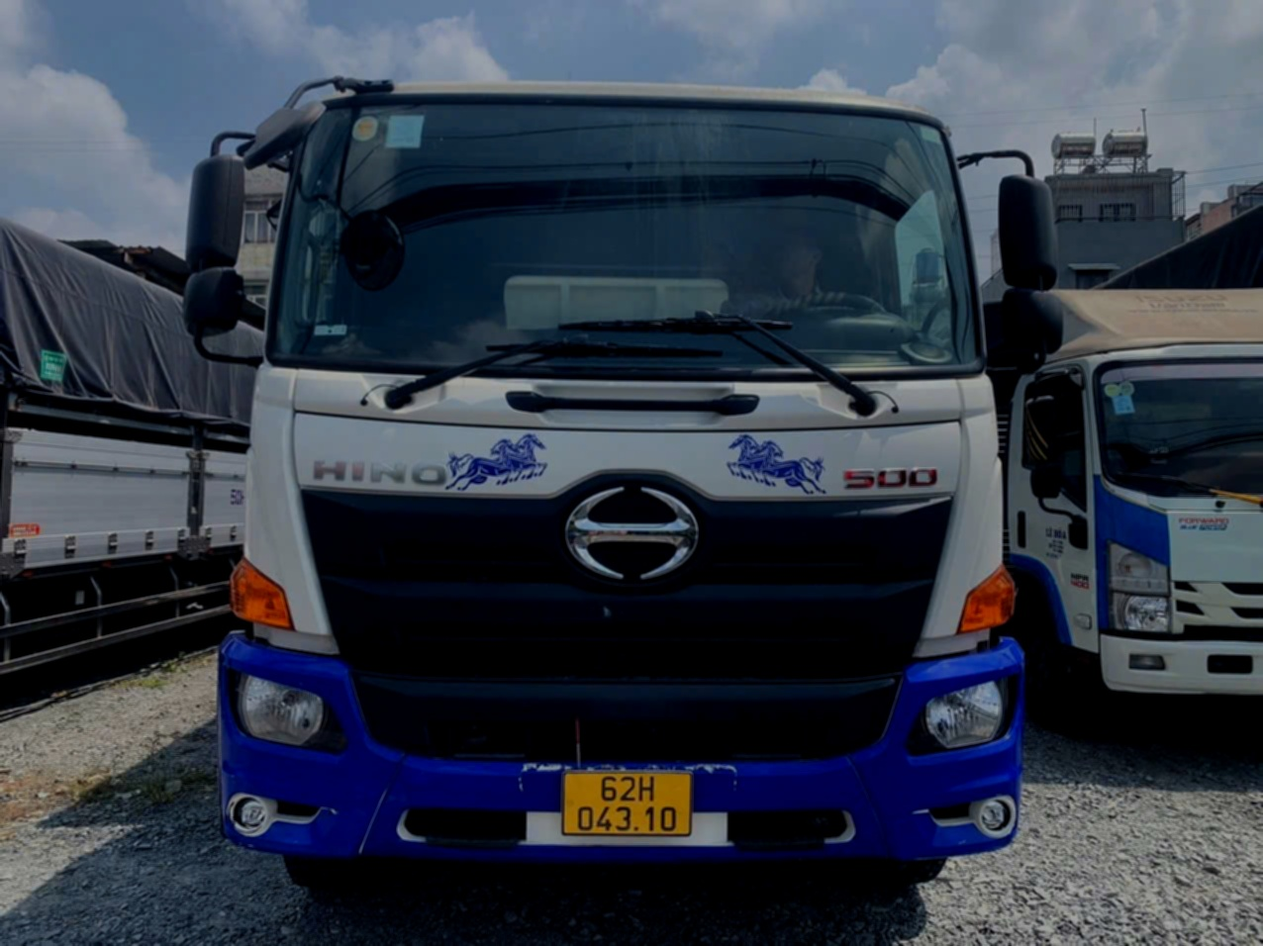Bien-so: (563, 769, 695, 850)
